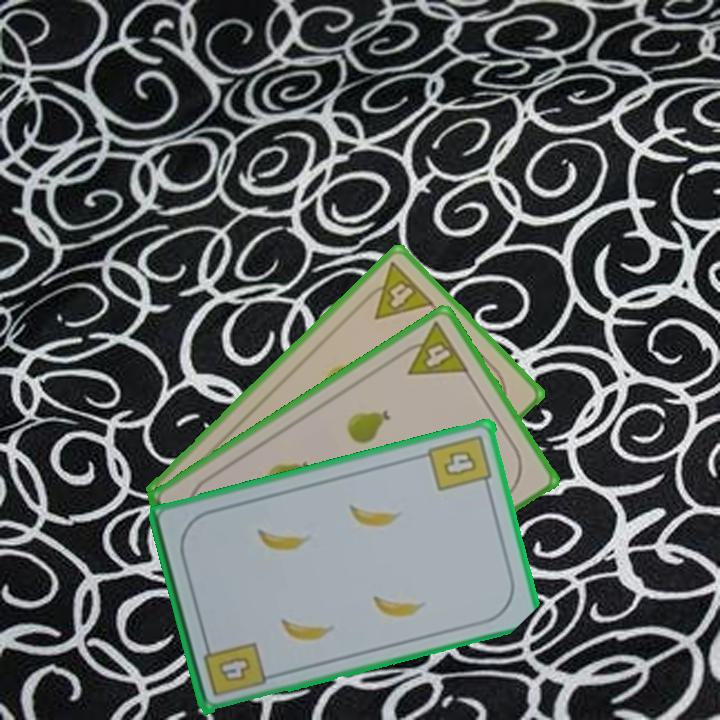4b: (425, 430, 496, 494), (199, 637, 269, 699)
4p: (356, 258, 437, 323), (393, 318, 472, 378)
